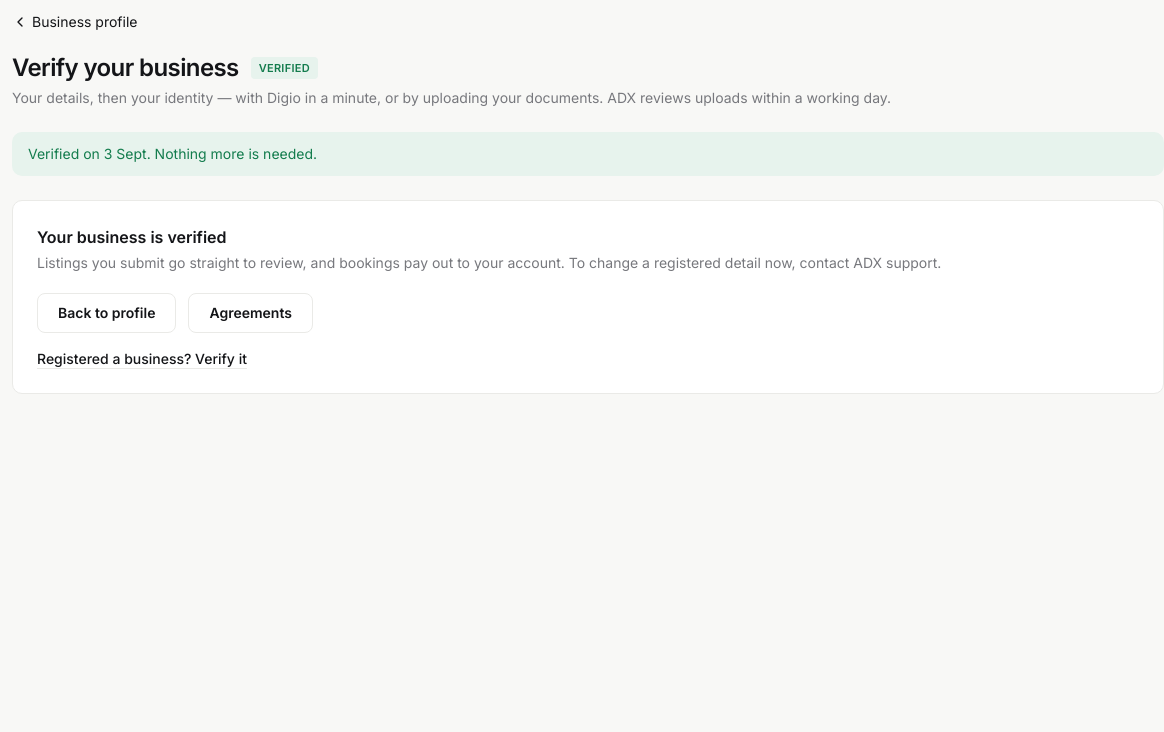
Test: the upgrade door › goes back to where the account stands, read again
The width and height of the screenshot is (1164, 732).
Click the button "Registered a business? Verify it" at {"x": 142, "y": 359}, box [37,349,247,369]
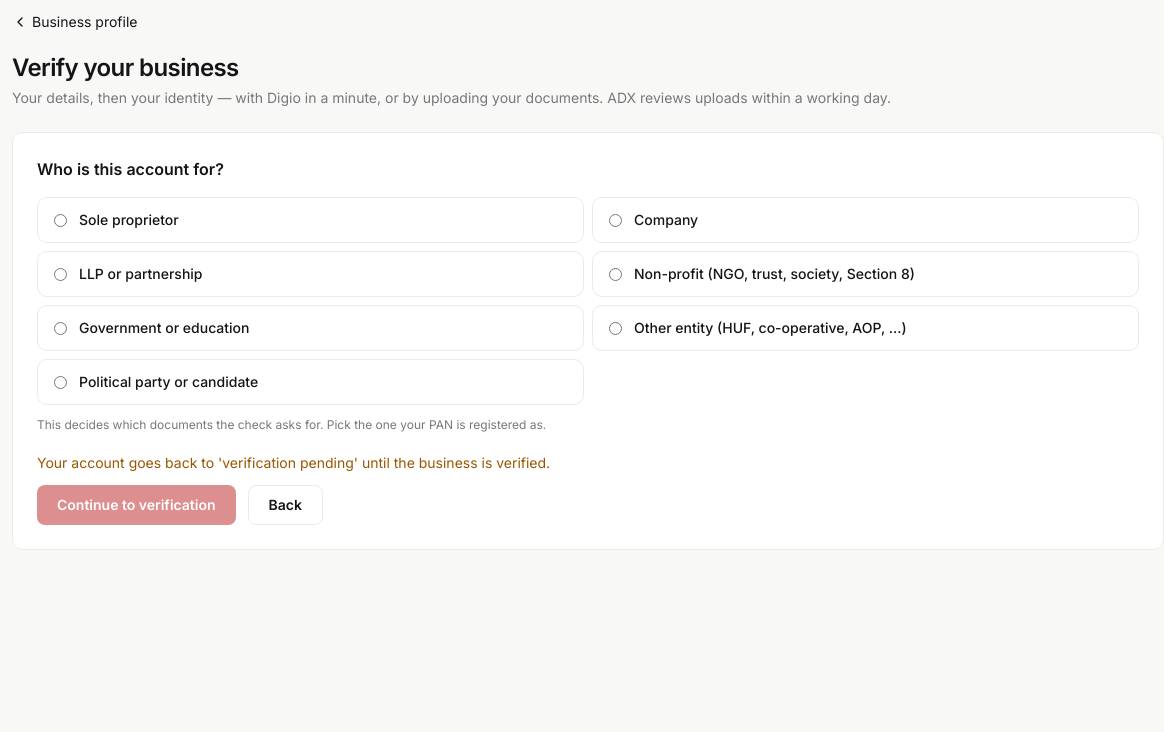
Result: the element "Who is this account for?" is shown at [37,157,1139,405]
Click the button "Back" at {"x": 285, "y": 505}, box [248,485,323,525]
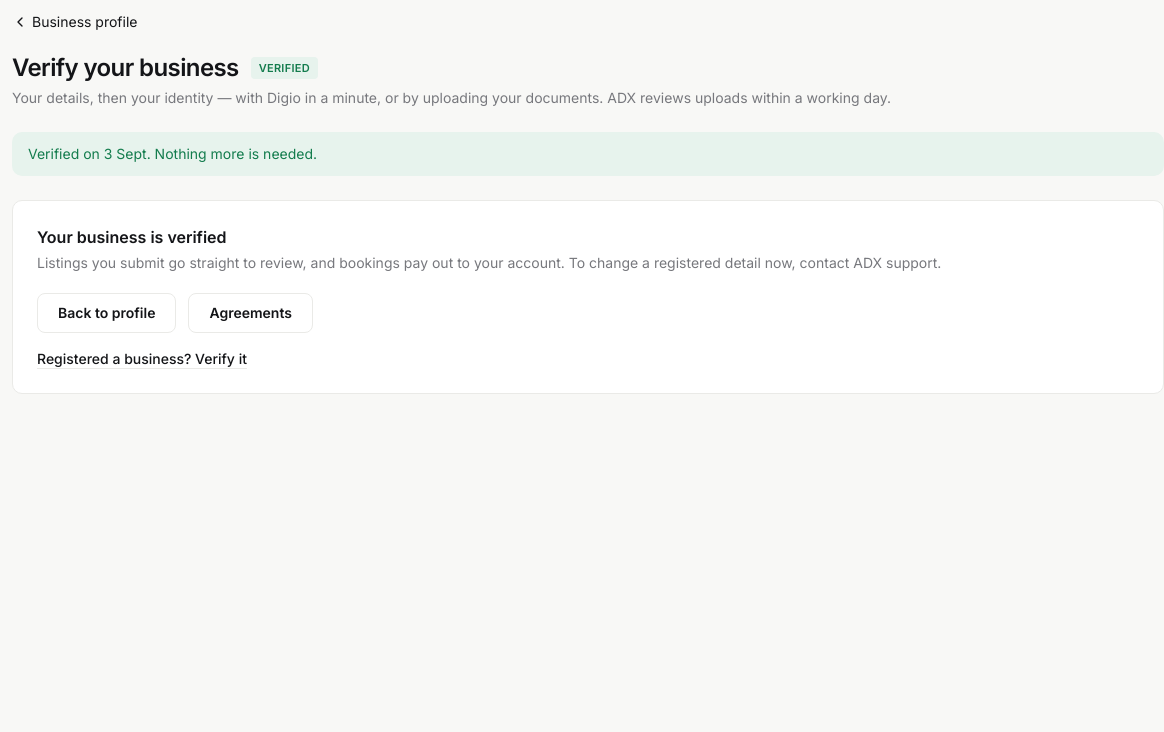
Result: the heading "Your business is verified" is shown at [37,227,226,247]
